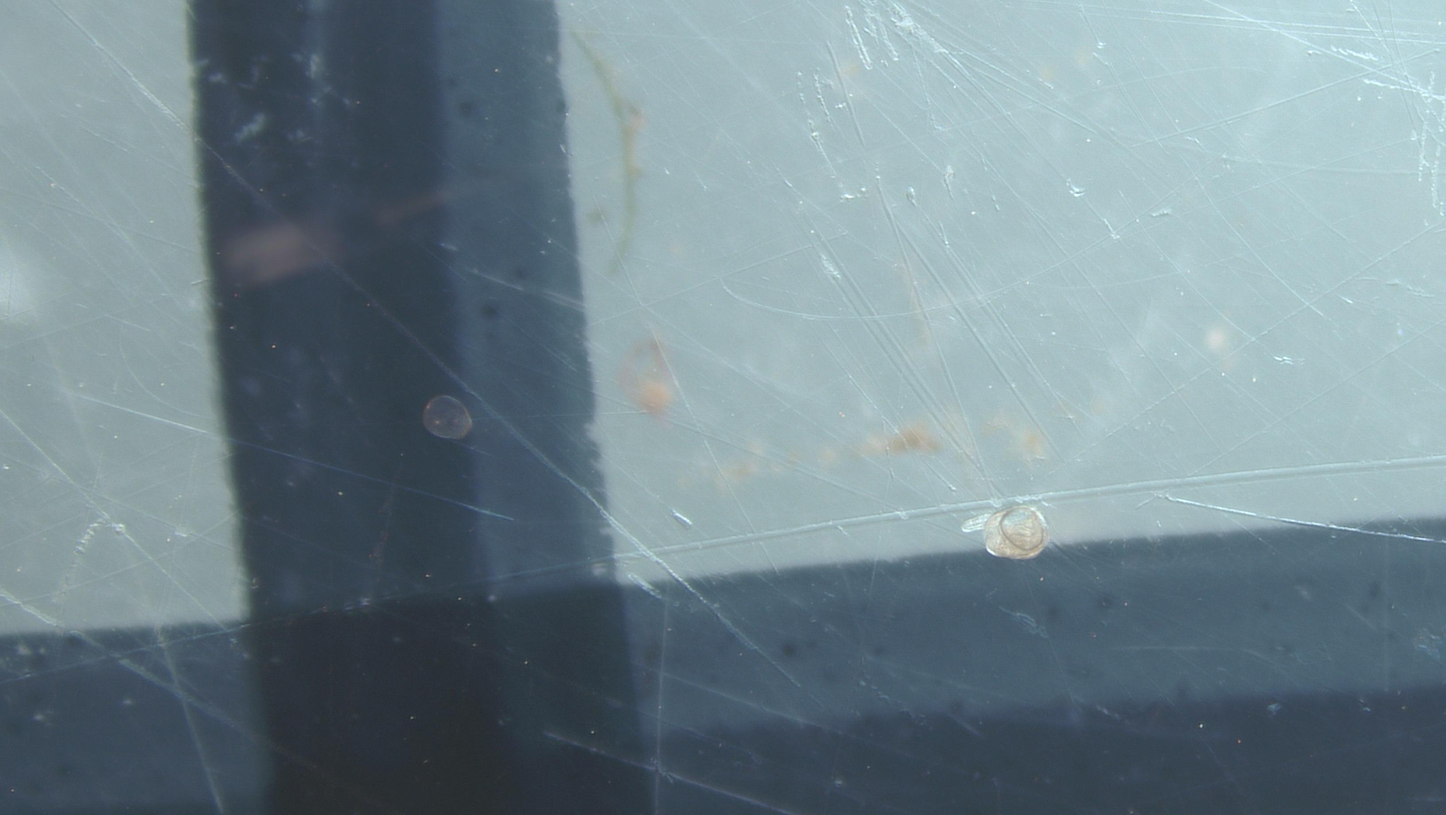dead: (423, 396, 473, 440)
live: (981, 505, 1050, 560)
